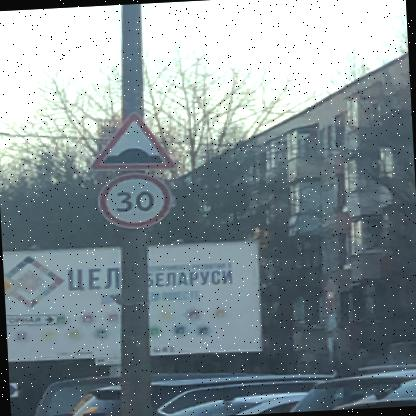speedlimit: (94, 170, 170, 228)
